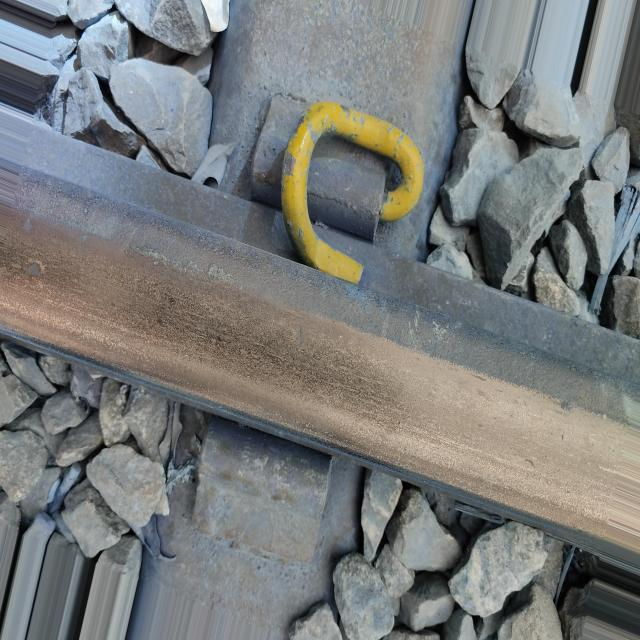Good Fasteners: (202, 50, 448, 291)
Missing Fastener: (124, 407, 347, 618)
